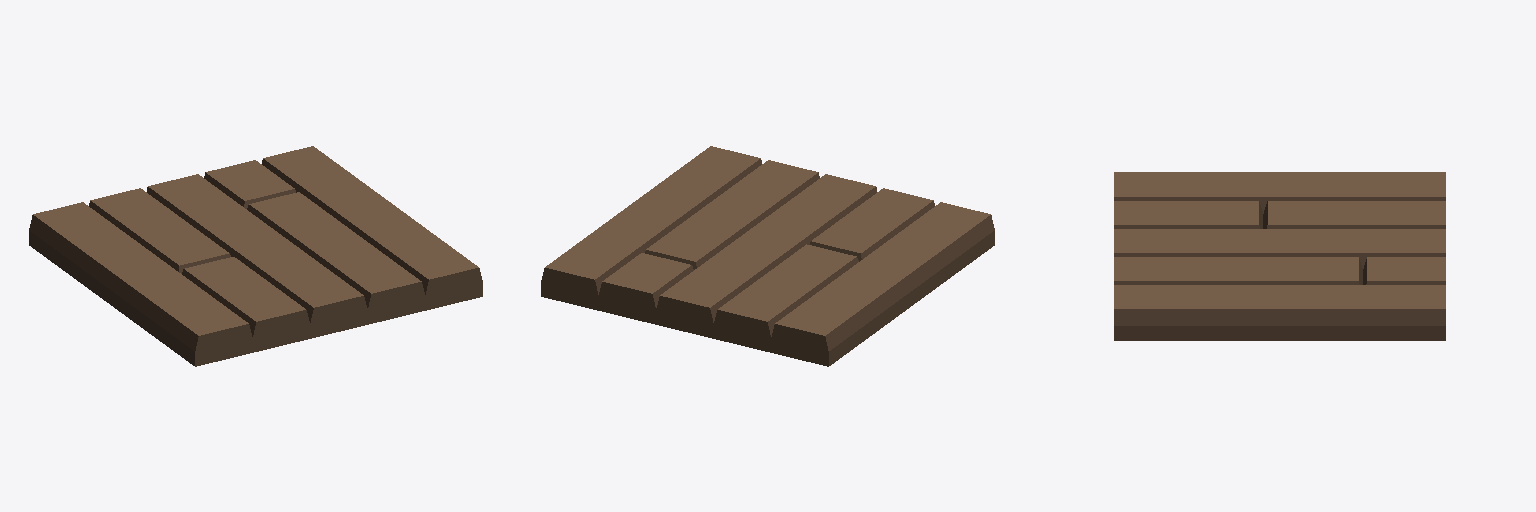
The model's file is Wood_Floor_Straight_1.obj.
3 renders of one model, left to right at view 1: azimuth 30°, elevation 25°; view 2: azimuth 150°, elevation 25°; view 3: azimuth 270°, elevation 25°, orthographic.
Parts seen in each view (by area): view 1: object1; view 2: object1; view 3: object1.
Boxes of the visible parts, <box> form: object1: <box>29,146,482,366</box>; object1: <box>541,146,994,366</box>; object1: <box>1114,172,1445,340</box>.
Bounding box in the file's own units: 1 × 0.1 × 1.